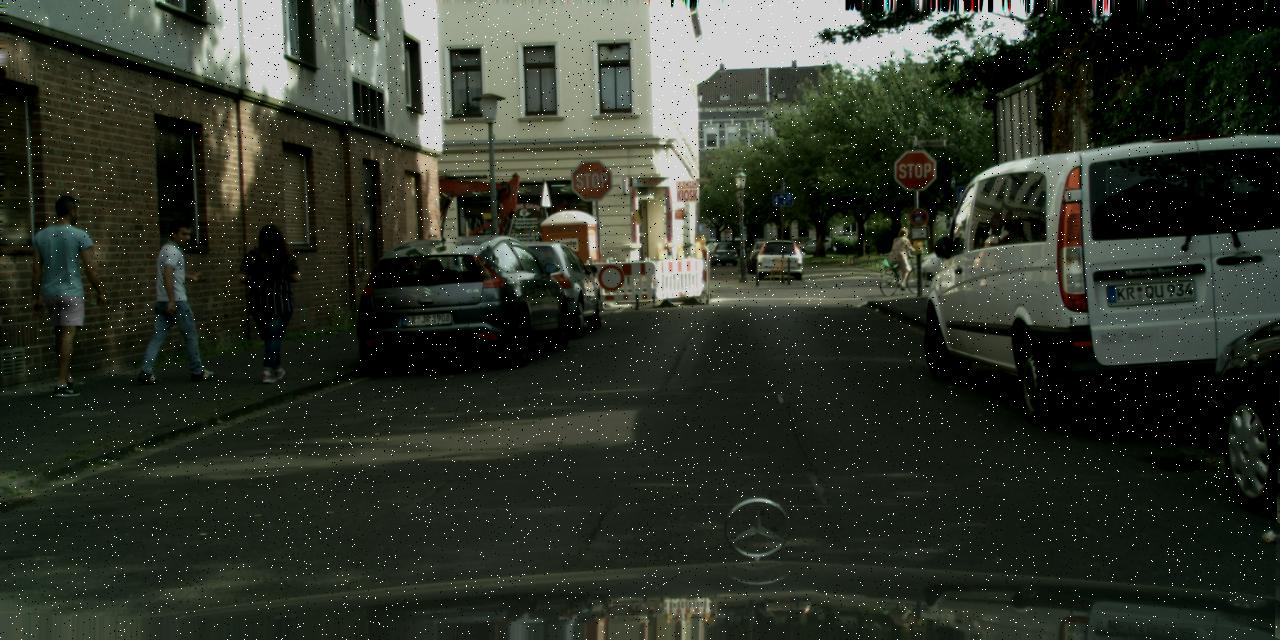ped: (26, 195, 106, 392), (145, 219, 211, 380), (241, 224, 305, 380), (890, 228, 911, 280)
